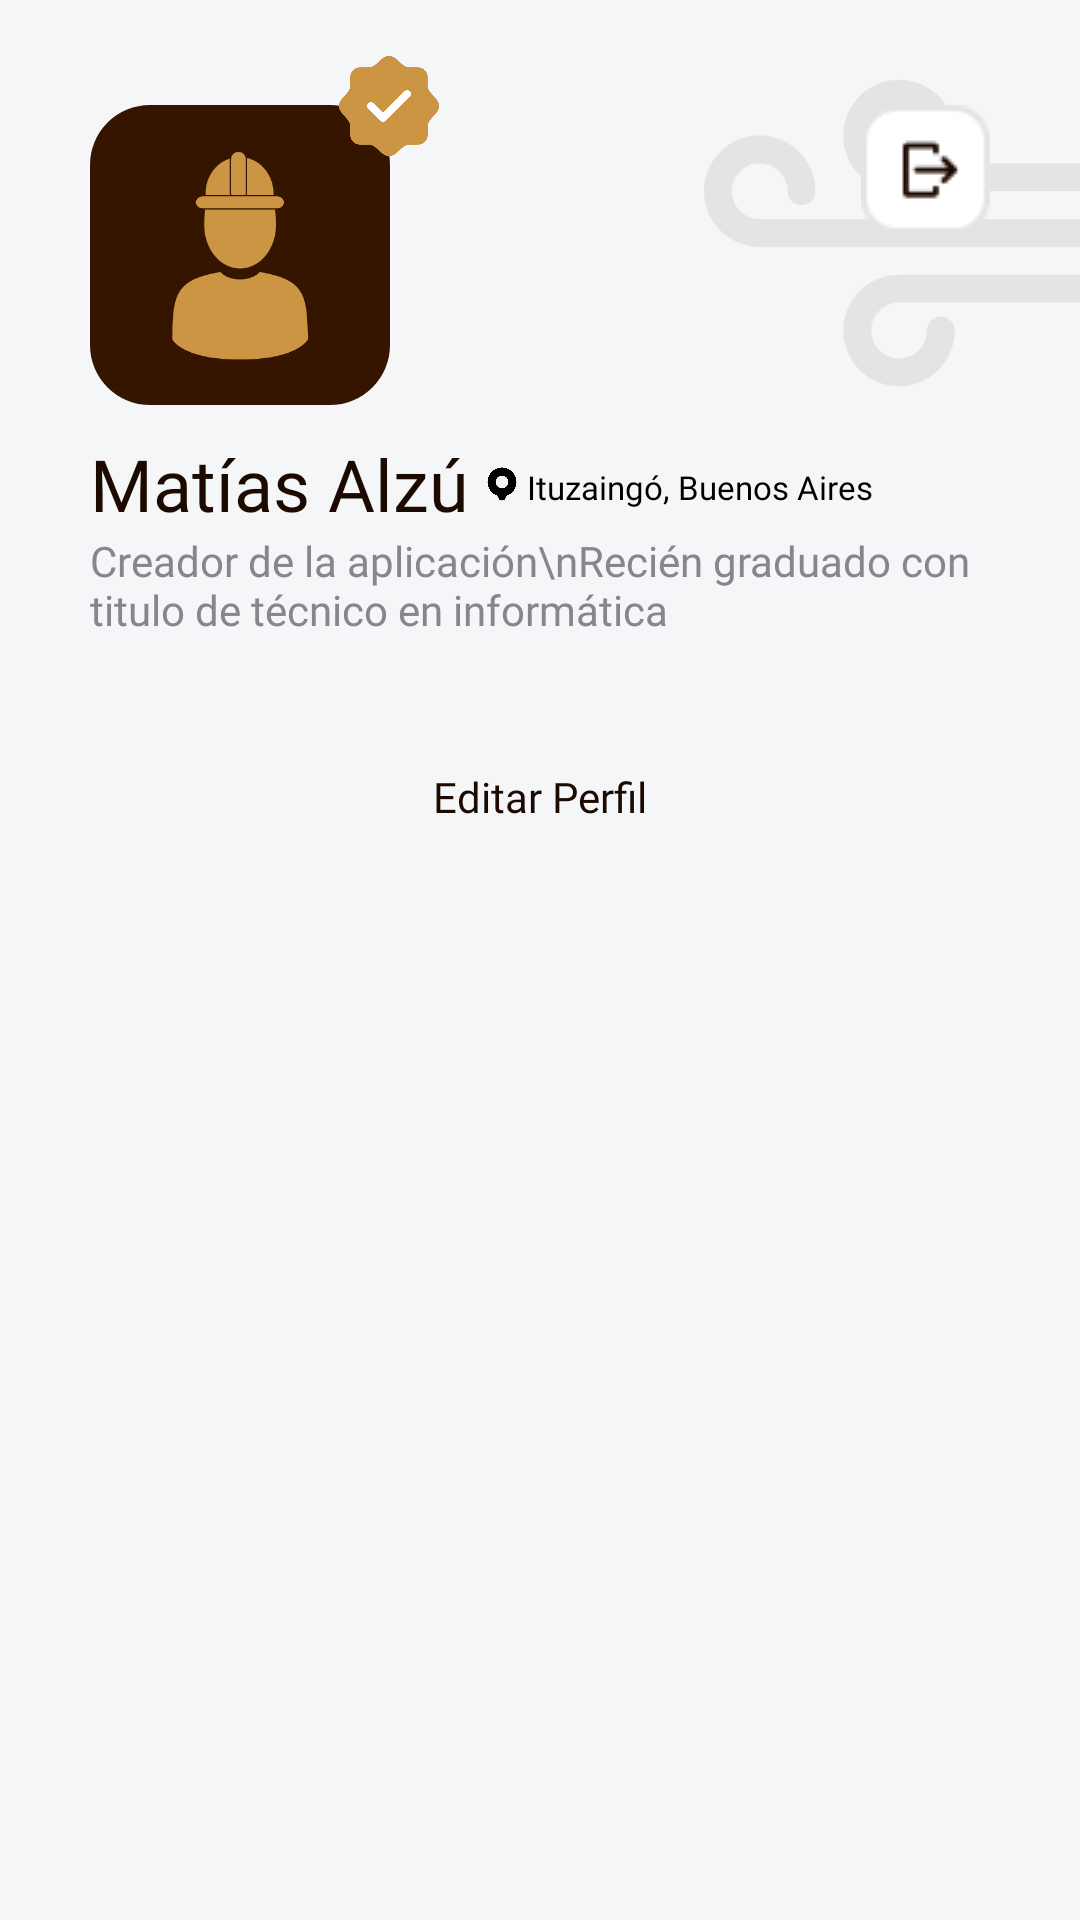

Icon bounding boxes for this 1080 x 1920 phone screenshot, format (x1, y1, x2, y2):
profile picture: (90, 105, 390, 405)
verify: (329, 56, 439, 166)
